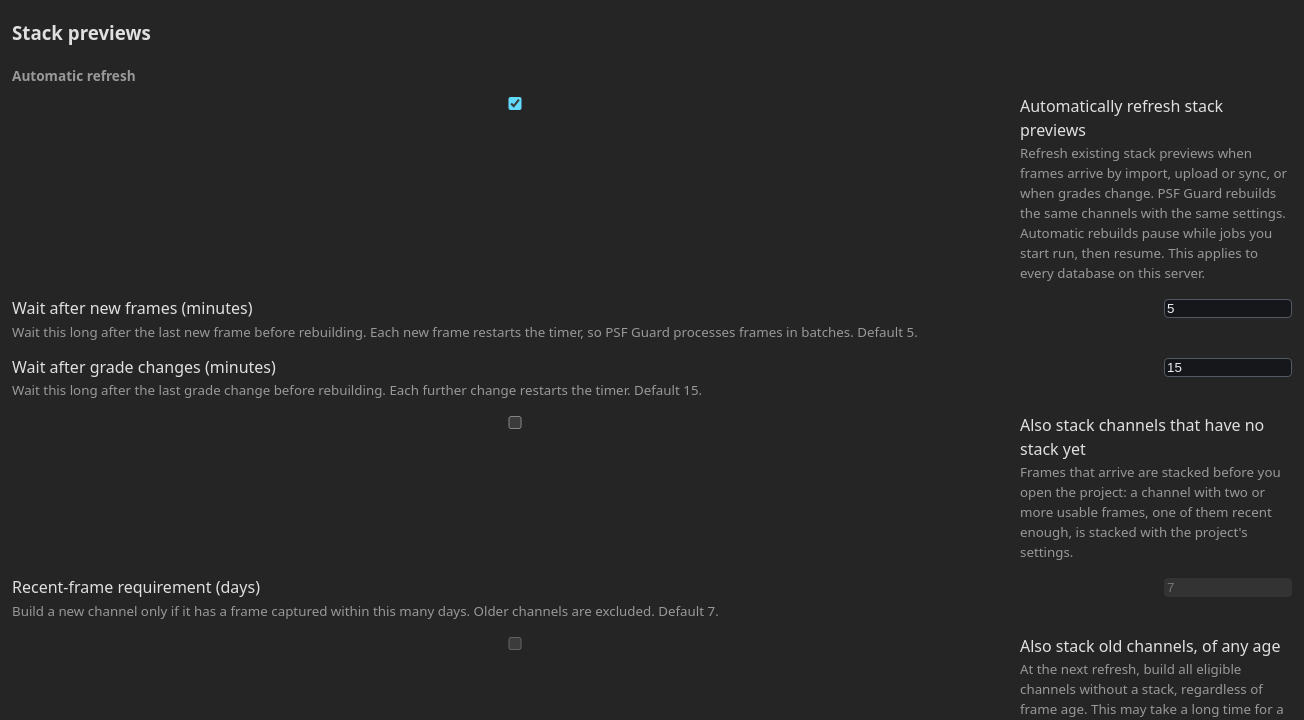
StackAutomationSettings › a refetch updates an unedited delay and keeps one being edited
The image size is (1304, 720).
Replace the text in the number field named "Minutes to wait after grade changes" with "45" at [1228, 367], box [1164,358,1292,377]
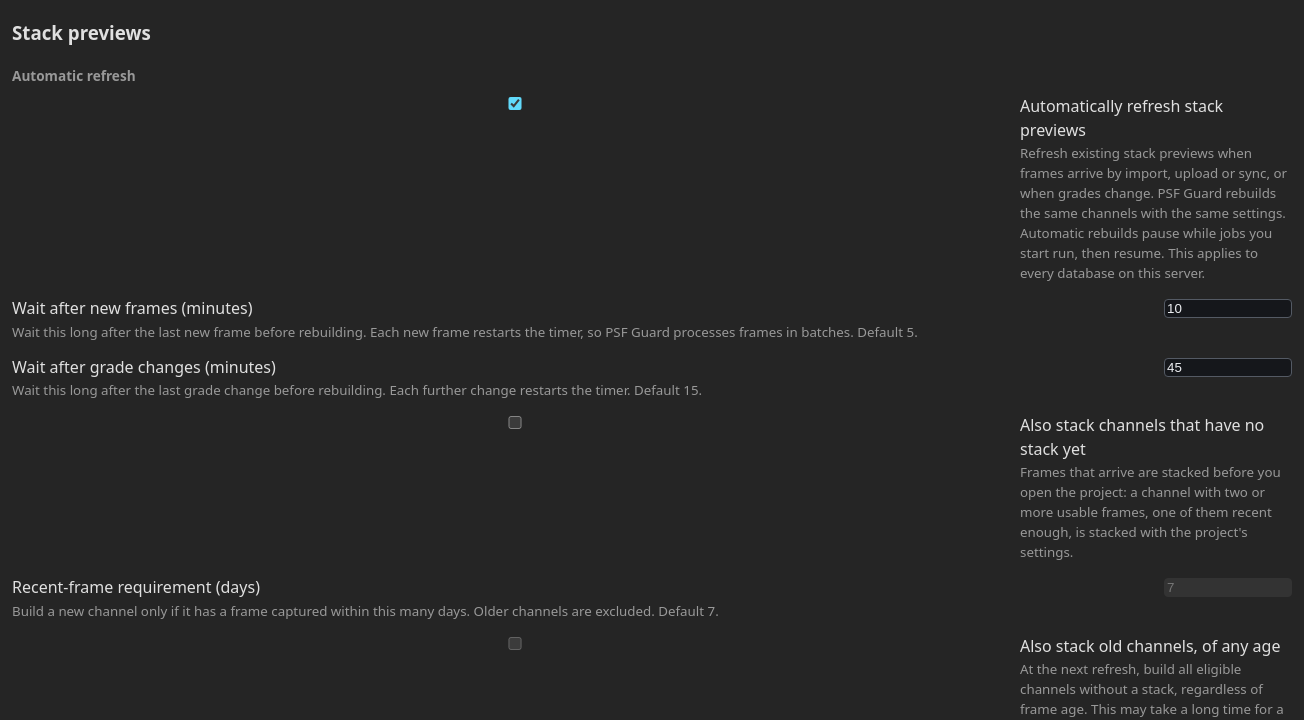
Check: the number field named "Minutes to wait after new frames" holds "10", box [1164,299,1292,318]
